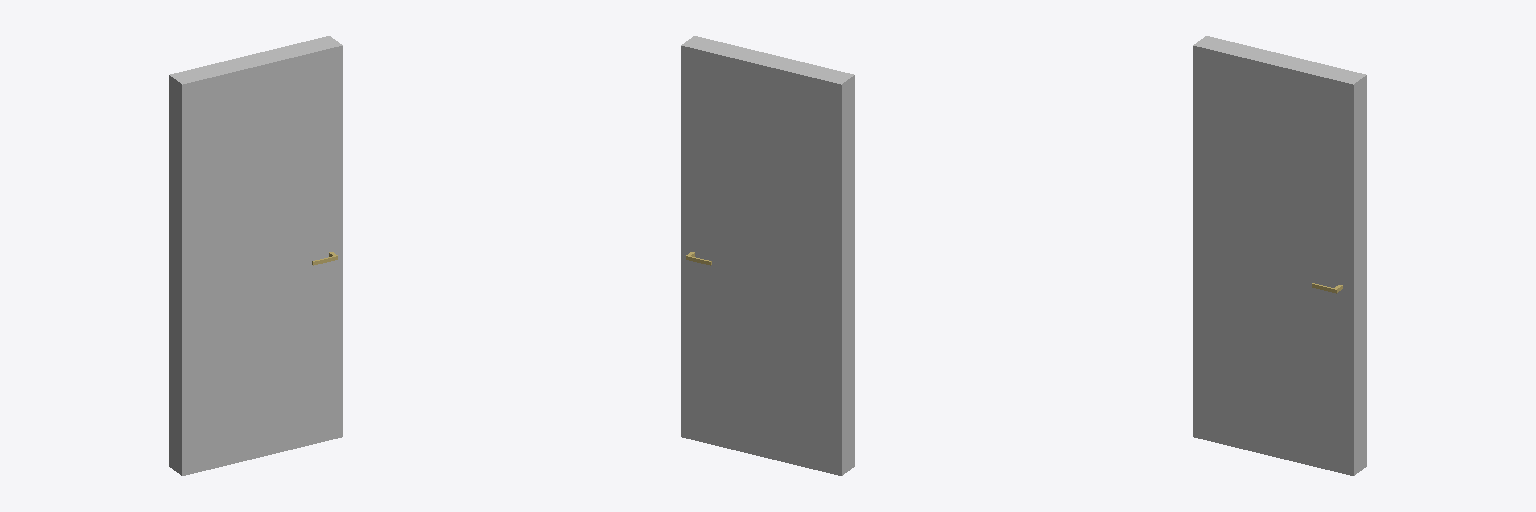
File: door-h210-w90-d13.obj
3 renders of one model, left to right at view 1: azimuth 30°, elevation 25°; view 2: azimuth 150°, elevation 25°; view 3: azimuth 330°, elevation 25°, orthographic.
Bounding box in the file's own units: 0.9 × 2.1 × 0.25.